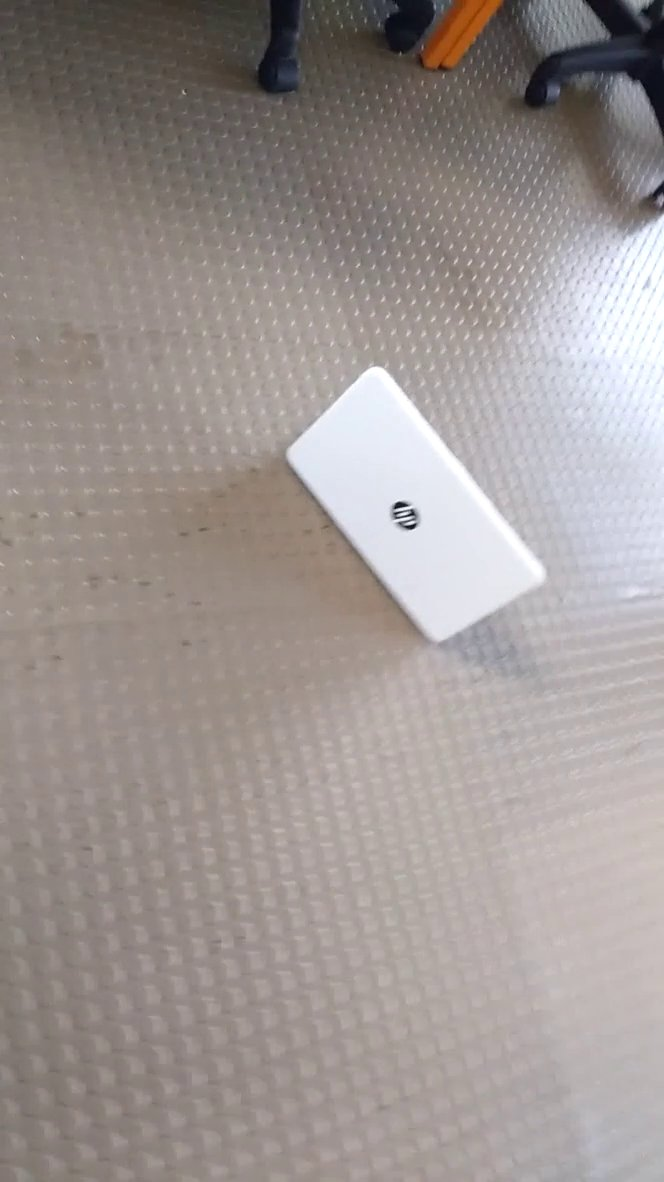laptop: (280, 353, 559, 659)
